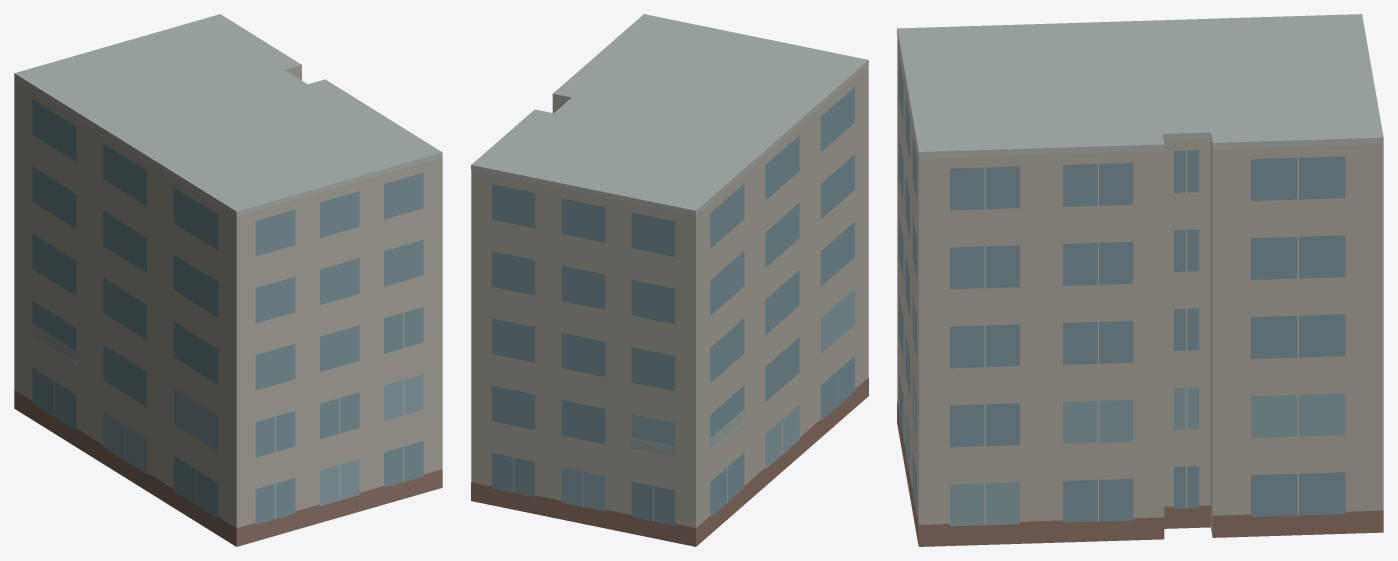
Rendered from survey-upis-32755217.glb.
3 views of the same model, side by side, from view 1: azimuth 30°, elevation 25°; view 2: azimuth 150°, elevation 25°; view 3: azimuth 270°, elevation 25° (orthographic). The views are drawn at different scales.
Parts seen in each view (by area): view 1: survey-upis-32755217.tmp; view 2: survey-upis-32755217.tmp; view 3: survey-upis-32755217.tmp.
Boxes of the visible parts, bbox=[...] form: survey-upis-32755217.tmp: bbox=[14, 14, 442, 546]; survey-upis-32755217.tmp: bbox=[471, 14, 868, 546]; survey-upis-32755217.tmp: bbox=[897, 14, 1383, 546].
Bounding box in the file's own units: 11.85 × 15.8 × 17.65.
